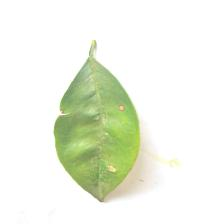canker: (46, 96, 149, 186)
